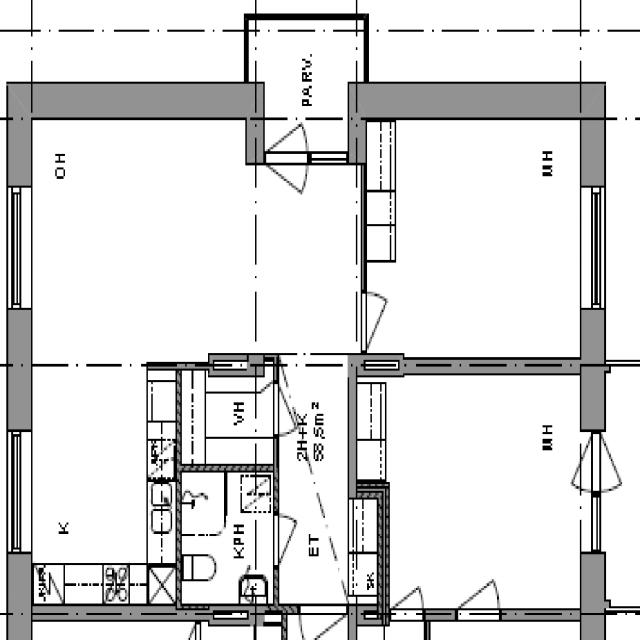door: (266, 152, 308, 222), (266, 92, 308, 162), (359, 292, 408, 351), (273, 513, 317, 565), (273, 384, 315, 433)
